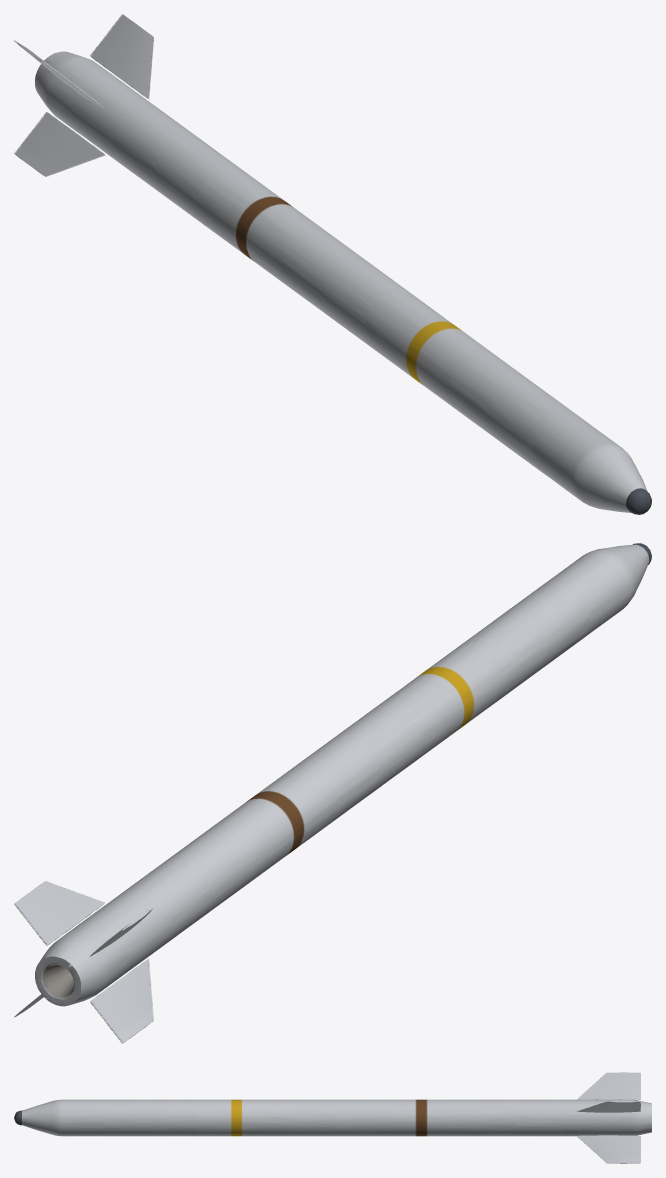
File: asraam.glb
3 views of the same model, one above another, from view 1: azimuth 30°, elevation 25°; view 2: azimuth 150°, elevation 25°; view 3: azimuth 270°, elevation 25° (orthographic). The views are drawn at different scales.
Parts seen in each view (by area): view 1: airframe, fsim:fin:3419906077:1|elevator+aileron:1+rudder:1@-20,20, fsim:fin:3899119507:1|elevator+aileron:-1+rudder:1@-20,20; view 2: airframe, fsim:fin:3419906077:1|elevator+aileron:1+rudder:1@-20,20, fsim:fin:3899119507:1|elevator+aileron:-1+rudder:1@-20,20; view 3: airframe, fsim:fin:1916934482:1|elevator+aileron:1+rudder:-1@-20,20, fsim:fin:453677541:1|elevator+aileron:-1+rudder:-1@-20,20, fsim:fin:3419906077:1|elevator+aileron:1+rudder:1@-20,20.
Part boxes in pixels (bbox=[...]): airframe: bbox=[35, 51, 651, 514]; fsim:fin:3419906077:1|elevator+aileron:1+rudder:1@-20,20: bbox=[90, 14, 153, 98]; fsim:fin:3899119507:1|elevator+aileron:-1+rudder:1@-20,20: bbox=[14, 112, 105, 176]; airframe: bbox=[35, 543, 651, 1006]; fsim:fin:3419906077:1|elevator+aileron:1+rudder:1@-20,20: bbox=[14, 881, 105, 945]; fsim:fin:3899119507:1|elevator+aileron:-1+rudder:1@-20,20: bbox=[90, 959, 153, 1043]; airframe: bbox=[14, 1099, 651, 1136]; fsim:fin:1916934482:1|elevator+aileron:1+rudder:-1@-20,20: bbox=[577, 1135, 640, 1163]; fsim:fin:453677541:1|elevator+aileron:-1+rudder:-1@-20,20: bbox=[577, 1072, 640, 1100]; fsim:fin:3419906077:1|elevator+aileron:1+rudder:1@-20,20: bbox=[577, 1100, 640, 1112].
Bounding box in the file's own units: 0.3148 × 0.3152 × 2.9.
4 materials, 1 textured.
